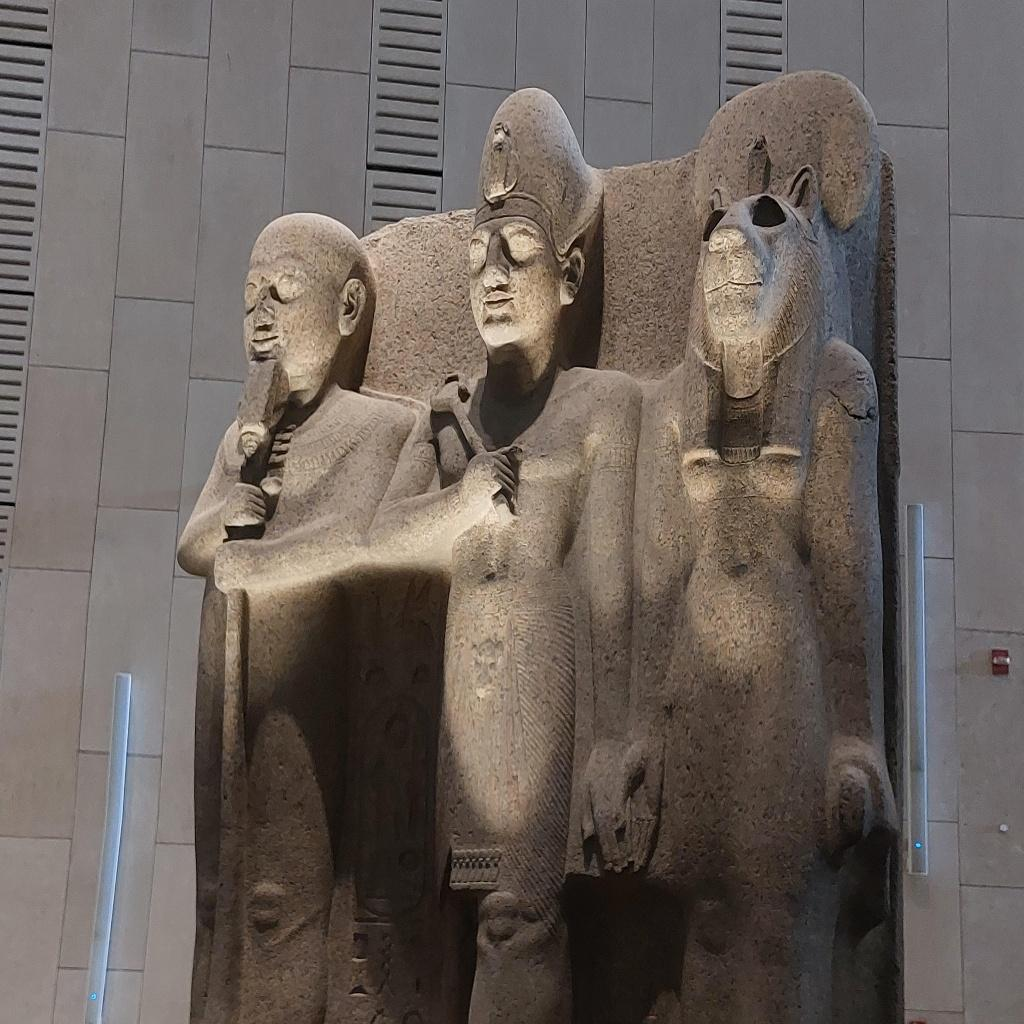Statue of God Ptah Ramesses ll Goddess Sekhmet: (178, 92, 910, 956)
